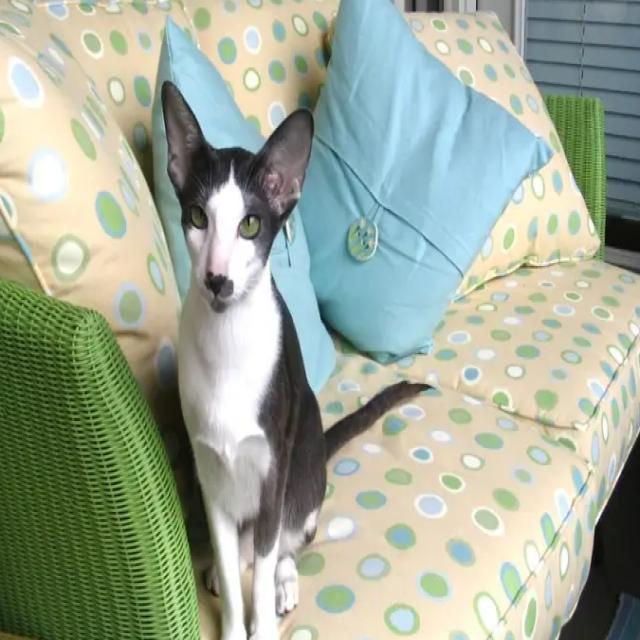Oriental: (158, 77, 436, 640)
